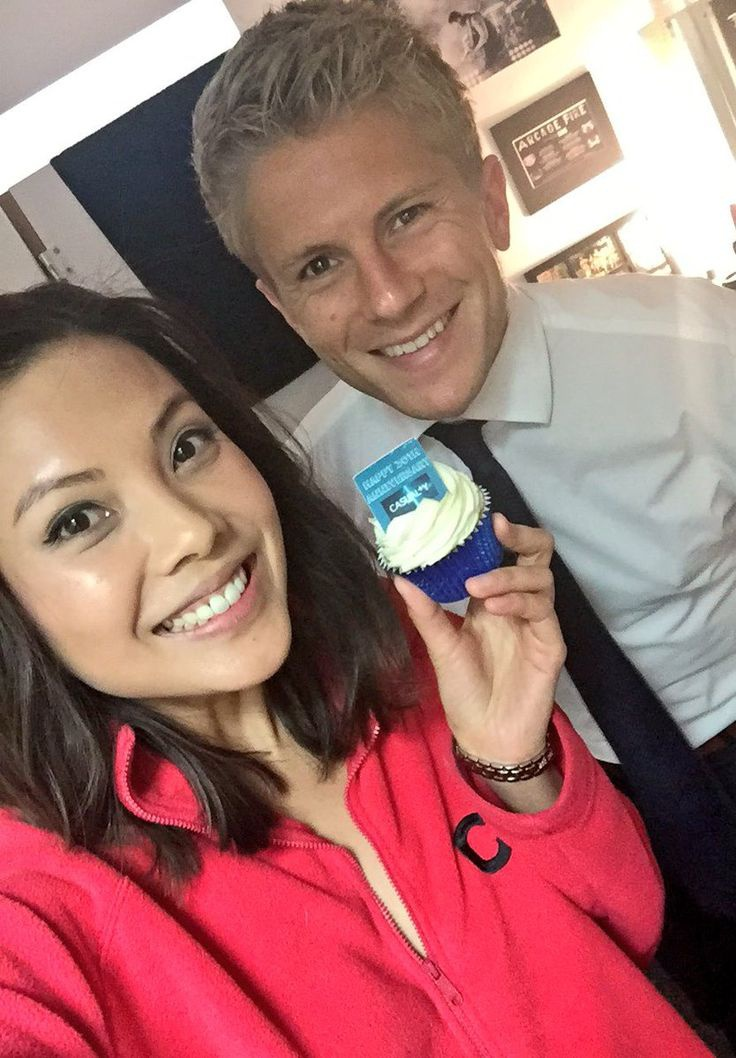bad: (0, 384, 312, 705), (260, 171, 527, 439)
